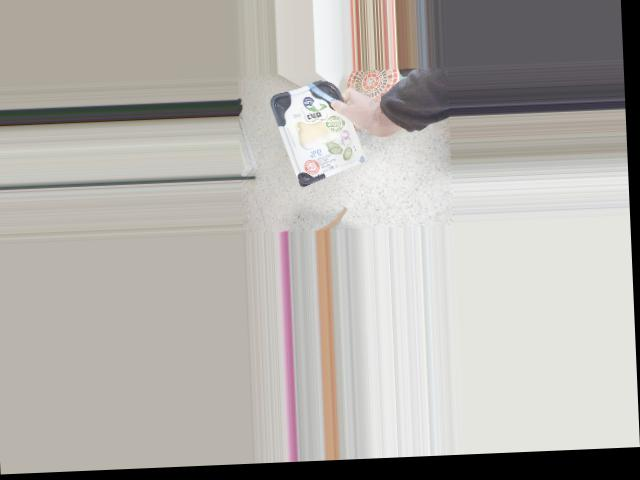cheese: (268, 78, 364, 188)
